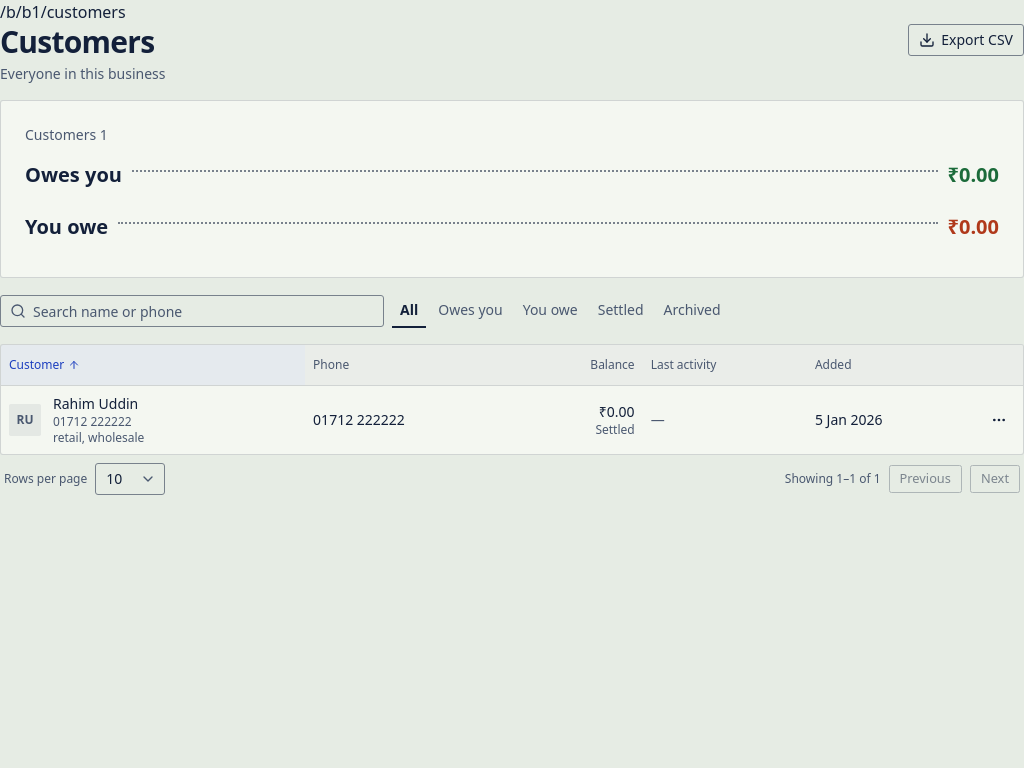
S-29 customer form › gives a Viewer no entry point to the dialog
The width and height of the screenshot is (1024, 768).
Expected: the text "Rahim Uddin" is shown, [53,394,144,414]
Click the button named "Actions for Rahim Uddin": (999, 420) [983,404,1015,436]
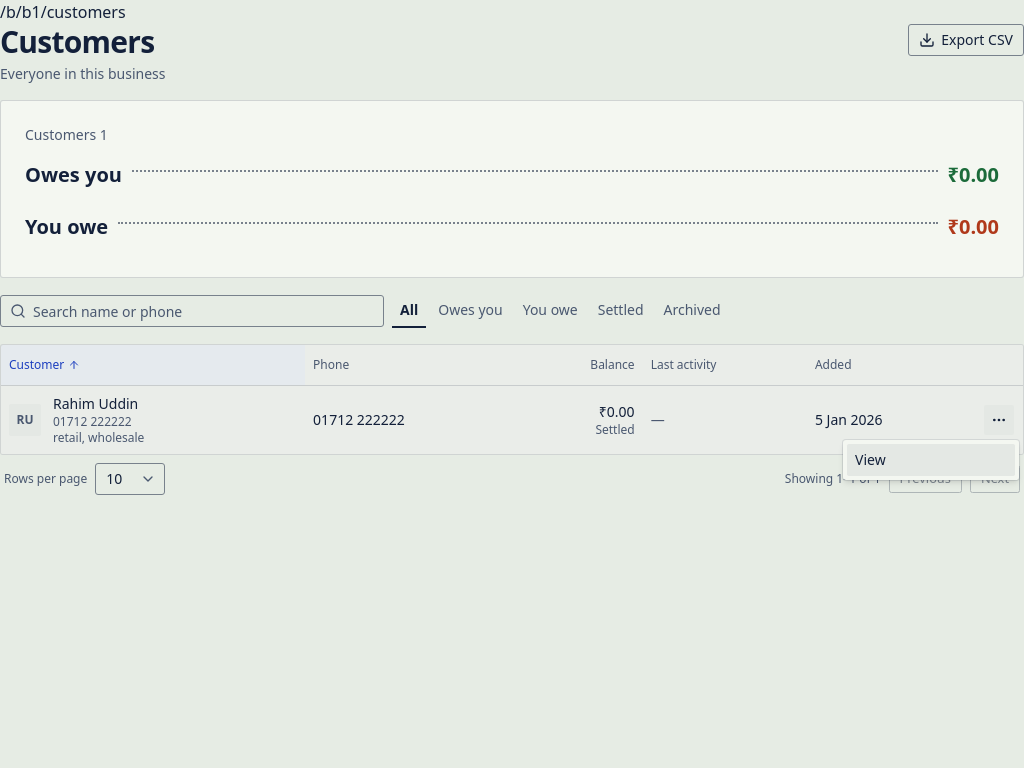
Expected: the menu items read "View", in this order, [847,444,1015,476]
